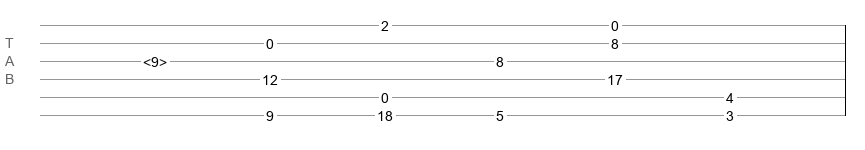0: (266, 36, 274, 46), (381, 90, 389, 100), (611, 18, 619, 28)
12: (262, 72, 278, 82)
17: (607, 72, 623, 82)
18: (377, 108, 393, 118)
2: (381, 18, 389, 28)
3: (726, 108, 734, 118)
4: (726, 90, 734, 100)
5: (496, 108, 504, 118)
8: (496, 54, 504, 64), (611, 36, 619, 46)
9: (266, 108, 274, 118)
harmonic: (143, 54, 167, 64)
